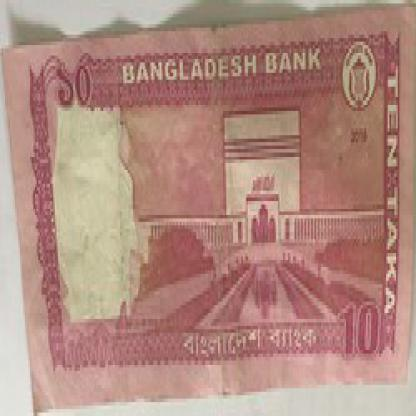Ten Taka: (50, 48, 98, 114), (342, 301, 388, 360)
